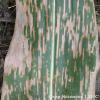Corn Gray leaf spot: (3, 1, 99, 99)
